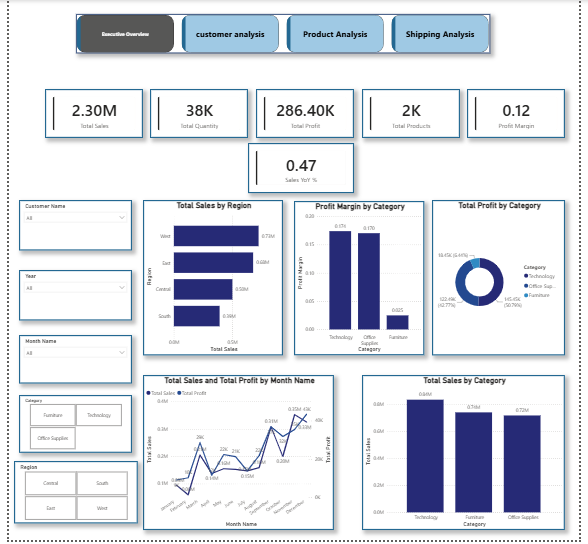

Layout of this report page (visuals, bound fields, positions):
{"tool":"powerbi","page":{"name":"Executive Overview","canvas":[1480,1400],"ordinal":0},"visuals":[{"type":"cardVisual","fields":{"Data":["_Measures.Total Products"]},"box":[915.2,230.7,254.1,127],"z":0},{"type":"cardVisual","fields":{"Data":["_Measures.Total Sales"]},"box":[93.3,230.7,254.1,127],"z":1000},{"type":"cardVisual","fields":{"Data":["_Measures.Total Profit"]},"box":[640.4,230.7,254.1,127],"z":2000},{"type":"cardVisual","fields":{"Data":["_Measures.Profit Margin"]},"box":[1187.4,230.7,254.1,127],"z":3000},{"type":"cardVisual","fields":{"Data":["_Measures.Total Quantity"]},"box":[365.6,230.7,254.1,127],"z":4000},{"type":"lineChart","fields":{"Y":["_Measures.Total Sales"],"Y2":["_Measures.Total Profit"],"Category":["Dim_Date.Month Name"]},"box":[347.4,972.2,495.2,401.9],"z":5000},{"type":"clusteredBarChart","fields":{"Category":["Fact_Sales.Region"],"Y":["_Measures.Total Sales"]},"box":[347.5,517.5,362.5,402.5],"z":6000},{"type":"columnChart","fields":{"Y":["_Measures.Total Sales"],"Category":["Dim_Product.Category"]},"box":[915.2,972.2,526.4,402.1],"z":7000},{"type":"donutChart","fields":{"Category":["Dim_Product.Category"],"Y":["_Measures.Total Profit"]},"box":[1097.5,517.5,345,402.5],"z":8000},{"type":"pageNavigator","box":[173.8,35.7,1073.8,102.4],"z":9000},{"type":"slicer","fields":{"Values":["Dim_Customer.Customer Name"]},"box":[26.2,519,292.9,131],"z":10000},{"type":"slicer","fields":{"Values":["Dim_Date.Year"]},"box":[26.2,700,292.9,131],"z":11000},{"type":"slicer","fields":{"Values":["Dim_Date.Month Name"]},"box":[26.2,869,292.9,126.2],"z":12000},{"type":"slicer","fields":{"Values":["Dim_Product.Category"]},"box":[26.2,1023.8,292.9,150],"z":13000},{"type":"slicer","fields":{"Values":["Fact_Sales.Region"]},"box":[11.9,1195.2,321.4,161.9],"z":14000},{"type":"clusteredColumnChart","fields":{"Y":["_Measures.Profit Margin"],"Category":["Dim_Product.Category"]},"box":[740,520,337.5,400],"z":15000},{"type":"cardVisual","fields":{"Data":["_Measures.Sales YoY %"]},"box":[619.6,370.7,274.8,129.6],"z":16000}]}

Visuals, with their boxes in screenshot pixels (x1, y1, x2, y2), scaled from the page's 1480x1400 canvas onto the 588x544 screenshot:
cardVisual - _Measures.Total Products: rect(364, 90, 465, 139)
cardVisual - _Measures.Total Sales: rect(37, 90, 138, 139)
cardVisual - _Measures.Total Profit: rect(254, 90, 355, 139)
cardVisual - _Measures.Profit Margin: rect(472, 90, 573, 139)
cardVisual - _Measures.Total Quantity: rect(145, 90, 246, 139)
lineChart - _Measures.Total Sales x _Measures.Total Profit: rect(138, 378, 335, 534)
clusteredBarChart - Fact_Sales.Region x _Measures.Total Sales: rect(138, 201, 282, 357)
columnChart - _Measures.Total Sales x Dim_Product.Category: rect(364, 378, 573, 534)
donutChart - Dim_Product.Category x _Measures.Total Profit: rect(436, 201, 573, 357)
pageNavigator: rect(69, 14, 496, 54)
slicer - Dim_Customer.Customer Name: rect(10, 202, 127, 253)
slicer - Dim_Date.Year: rect(10, 272, 127, 323)
slicer - Dim_Date.Month Name: rect(10, 338, 127, 387)
slicer - Dim_Product.Category: rect(10, 398, 127, 456)
slicer - Fact_Sales.Region: rect(5, 464, 132, 527)
clusteredColumnChart - _Measures.Profit Margin x Dim_Product.Category: rect(294, 202, 428, 357)
cardVisual - _Measures.Sales YoY %: rect(246, 144, 355, 194)
